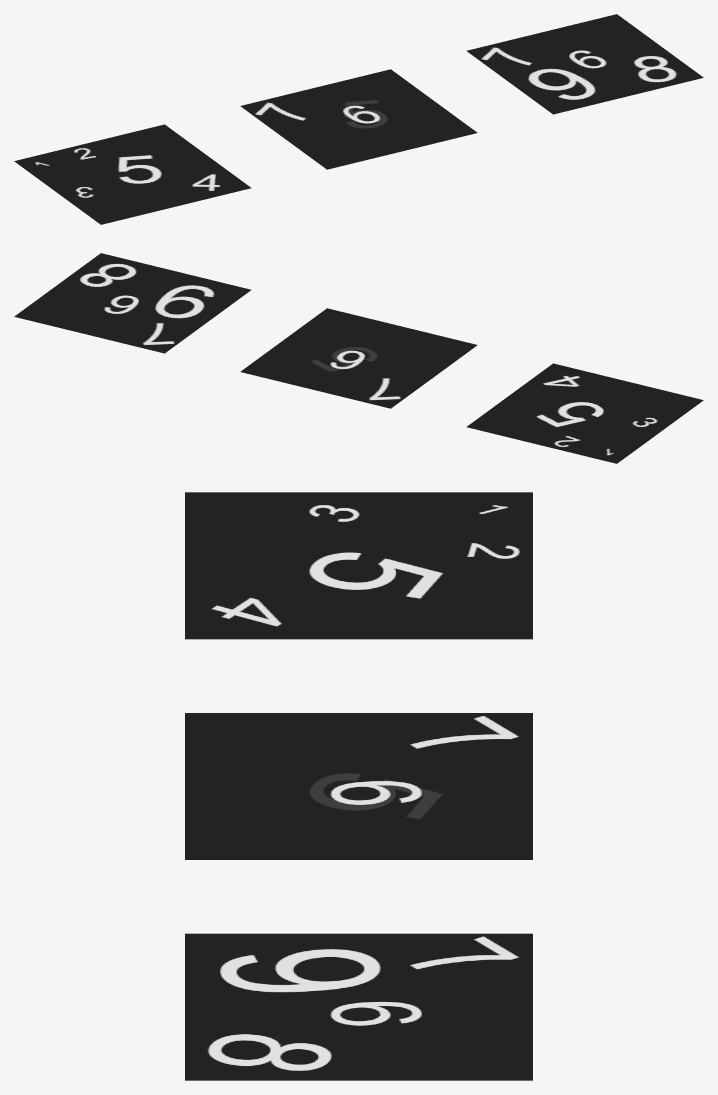
File: numbers.glb
3 renders of one model, top to bottom at view 1: azimuth 30°, elevation 25°; view 2: azimuth 150°, elevation 25°; view 3: azimuth 270°, elevation 25°, orthographic. The views are drawn at different scales.
Visible parts, largest first — view 1: arx_illustration__1__SUBDIVISION_4__t, arx_illustration__0__SUBDIVISION_4__t, arx_illustration__2__SUBDIVISION_4__t; view 2: arx_illustration__1__SUBDIVISION_4__t, arx_illustration__0__SUBDIVISION_4__t, arx_illustration__2__SUBDIVISION_4__t; view 3: arx_illustration__0__SUBDIVISION_4__t, arx_illustration__2__SUBDIVISION_4__t, arx_illustration__1__SUBDIVISION_4__t.
Part boxes in pixels (x1,y1,x2,y2): arx_illustration__1__SUBDIVISION_4__t: (240,69,477,169); arx_illustration__0__SUBDIVISION_4__t: (14,124,251,224); arx_illustration__2__SUBDIVISION_4__t: (466,14,703,114); arx_illustration__1__SUBDIVISION_4__t: (240,308,477,408); arx_illustration__0__SUBDIVISION_4__t: (466,363,703,463); arx_illustration__2__SUBDIVISION_4__t: (14,253,251,353); arx_illustration__0__SUBDIVISION_4__t: (185,492,532,639); arx_illustration__2__SUBDIVISION_4__t: (185,933,532,1080); arx_illustration__1__SUBDIVISION_4__t: (185,713,532,859).
Size of the model in its own units: 8 by 0 by 2.
3 materials, 3 textured.
